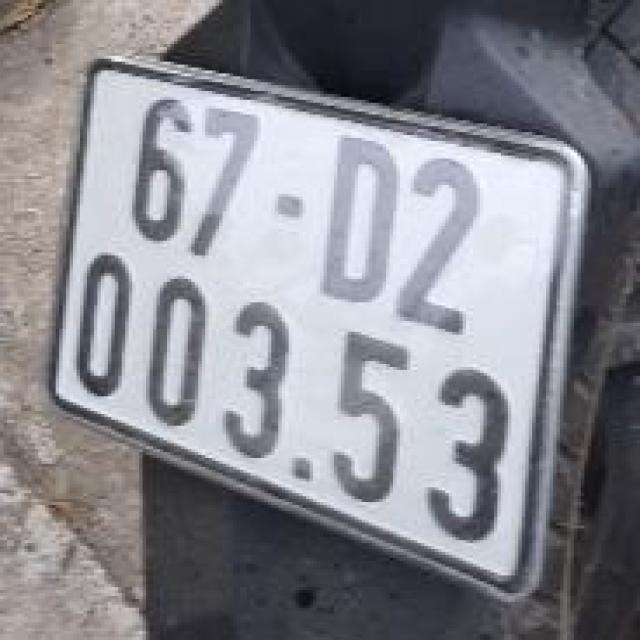0: (62, 242, 136, 427), (143, 273, 205, 452)
2: (407, 145, 487, 339)
3: (421, 362, 522, 556), (219, 296, 292, 467)
5: (330, 322, 410, 504)
6: (115, 87, 188, 251)
7: (197, 98, 266, 263)
D: (310, 132, 393, 308)
